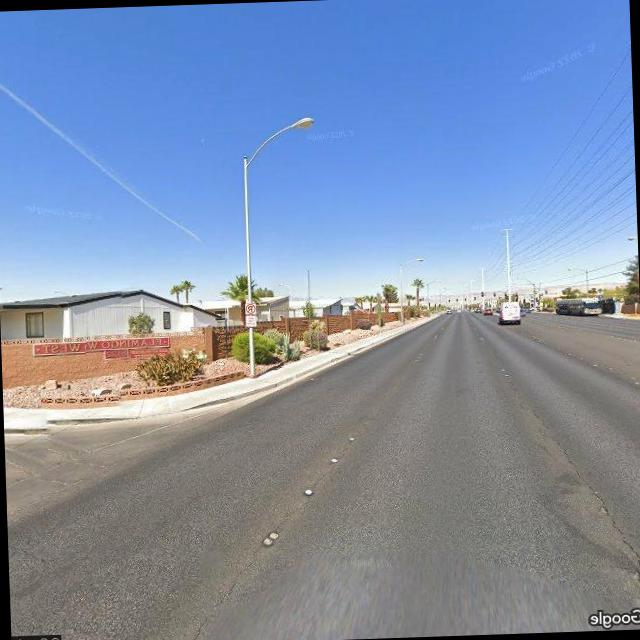pothole: (547, 424, 640, 603)
